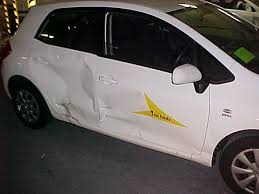Dent: (33, 52, 101, 120)
